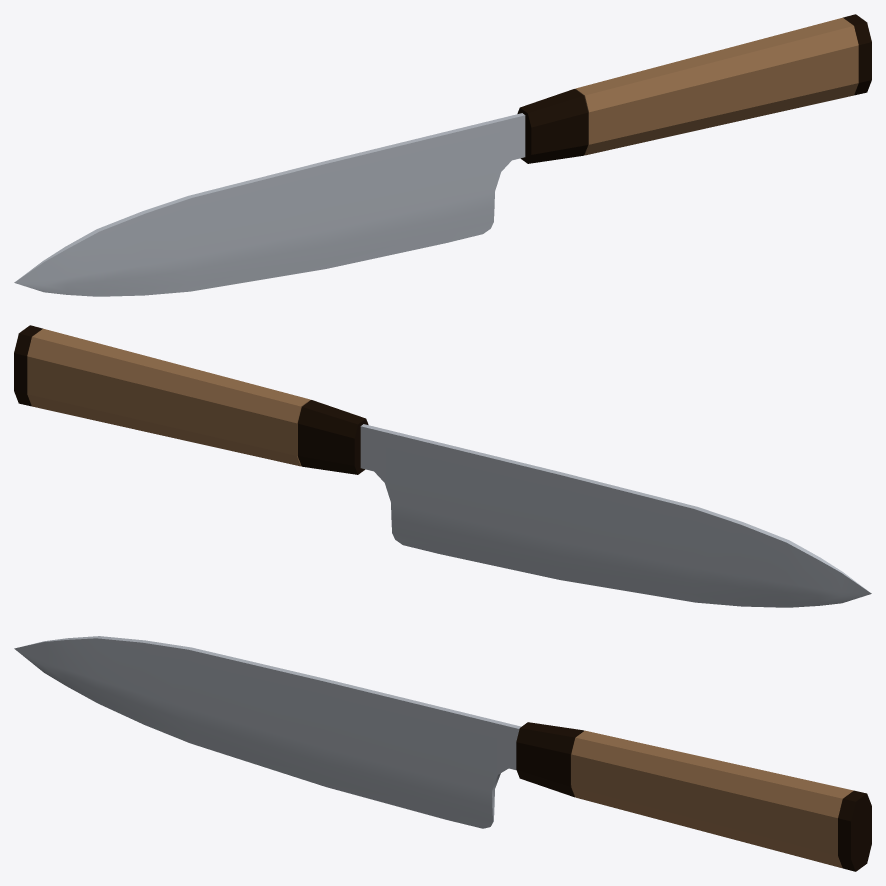
Rendered from SM_Knife_01.fbx.
3 views of the same model, one above another, from view 1: azimuth 30°, elevation 25°; view 2: azimuth 150°, elevation 25°; view 3: azimuth 330°, elevation 25° (orthographic).
Visible parts, largest first — view 1: SM_Knife_01; view 2: SM_Knife_01; view 3: SM_Knife_01.
Part boxes in pixels (left/top/right/bottom): SM_Knife_01: left=14, top=14, right=871, bottom=296; SM_Knife_01: left=14, top=325, right=871, bottom=607; SM_Knife_01: left=14, top=636, right=871, bottom=871.
Size of the model in its own units: 36.26 by 5.05 by 1.55.
